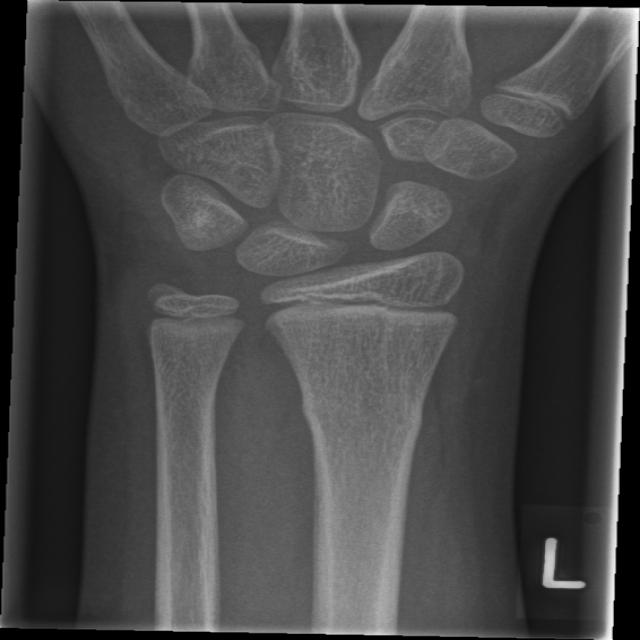radius fracture: (284, 377, 449, 478)
